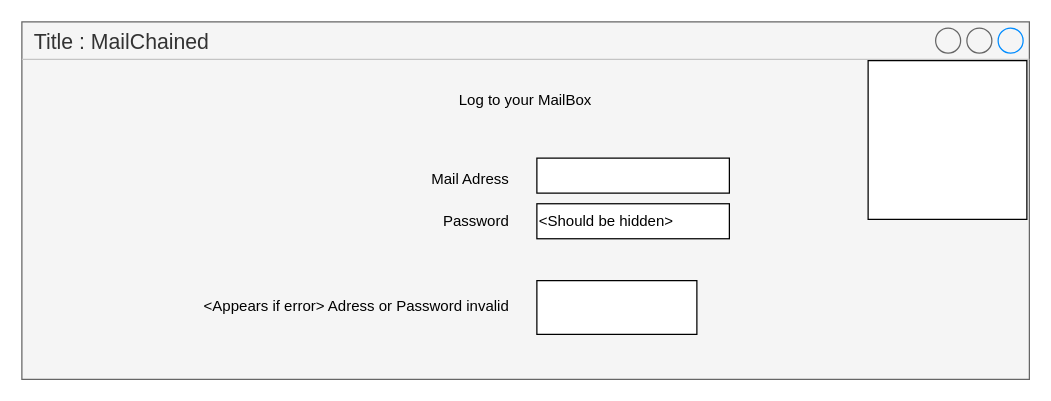
This 1051x401 diagram has some shape labels left out. The shapes that lost their labels are listed below. From the top down, each one's centre as x and y in pixels, then its label:
At [947,139]: "Eventual MailChained Logo".
At [616,306]: "Confirm".
